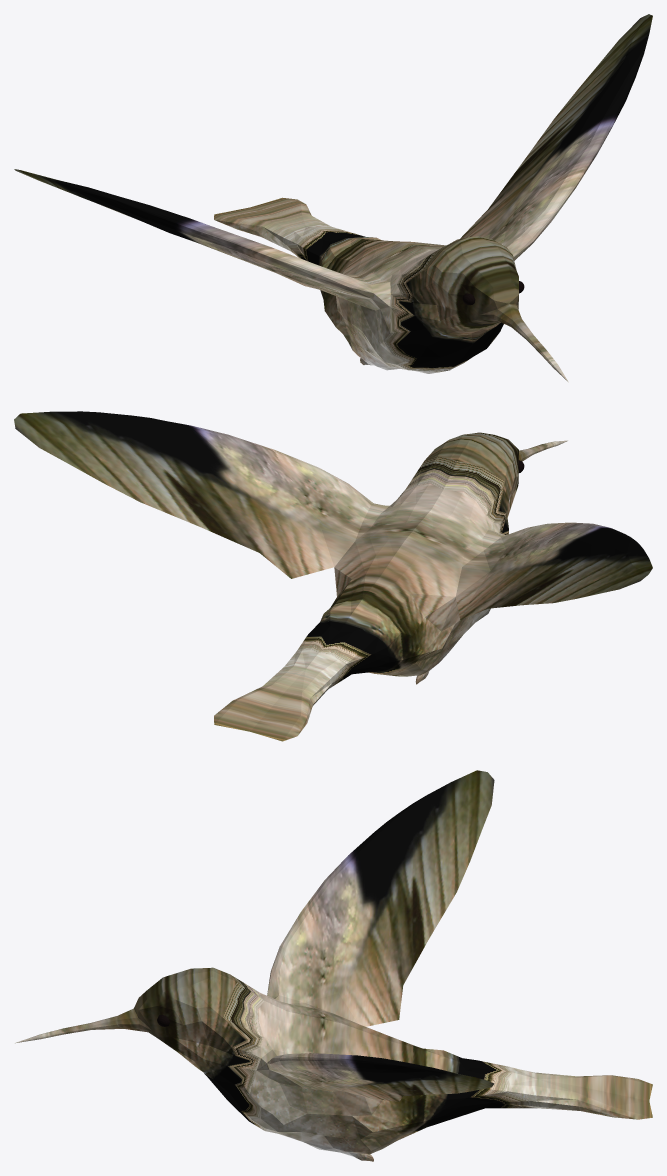
File: humbird.obj
3 renders of one model, top to bottom at view 1: azimuth 30°, elevation 25°; view 2: azimuth 150°, elevation 25°; view 3: azimuth 270°, elevation 25°, orthographic.
Bounding box in the file's own units: 0.1007 × 0.0341 × 0.0882.
2 materials, 1 textured.
